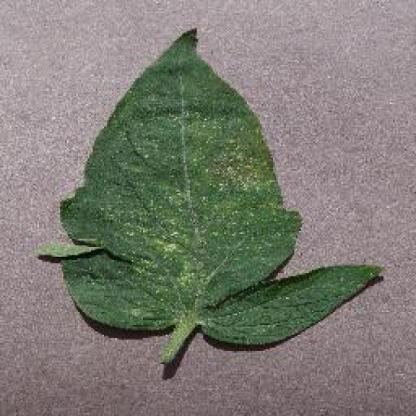Tomato_Spider_Mites: (40, 28, 383, 344)
